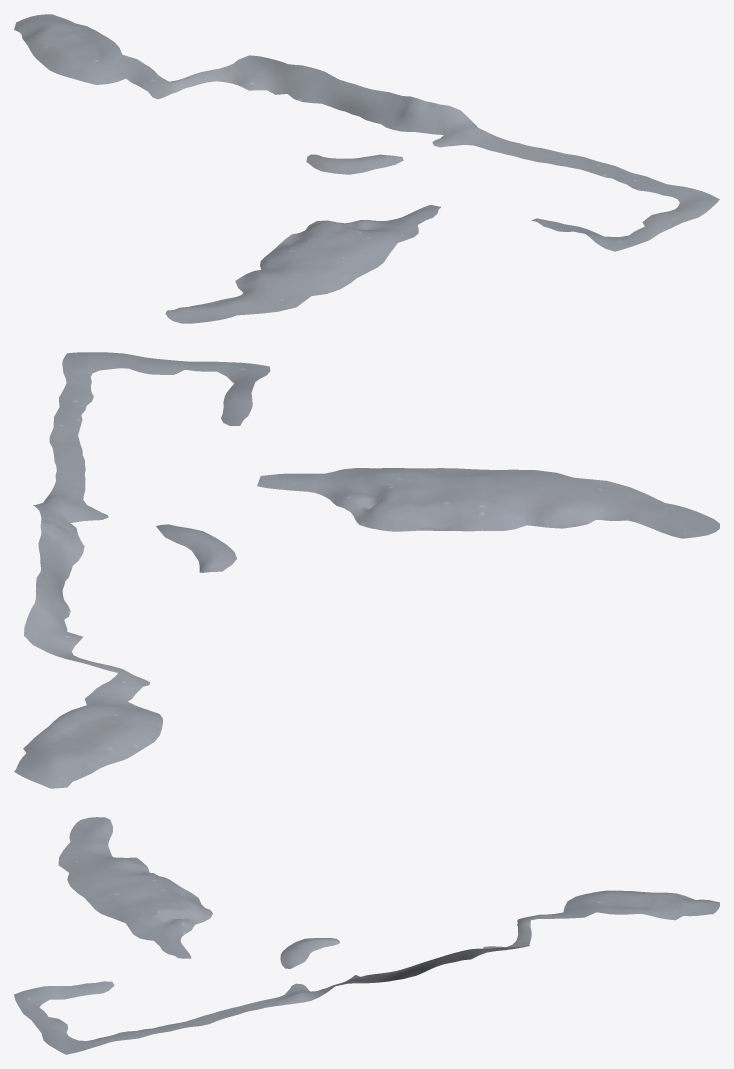
The model's file is pref_sm_beach_winter_blocksnow04_lv3.fbx.
3 renders of one model, top to bottom at view 1: azimuth 30°, elevation 25°; view 2: azimuth 150°, elevation 25°; view 3: azimuth 270°, elevation 25°, orthographic. The views are drawn at different scales.
Visible parts, largest first — view 1: pref_sm_beach_winter_blocksnow04_lv3; view 2: pref_sm_beach_winter_blocksnow04_lv3; view 3: pref_sm_beach_winter_blocksnow04_lv3.
Boxes of the visible parts, bbox=[...] form: pref_sm_beach_winter_blocksnow04_lv3: bbox=[14, 14, 719, 323]; pref_sm_beach_winter_blocksnow04_lv3: bbox=[14, 352, 719, 788]; pref_sm_beach_winter_blocksnow04_lv3: bbox=[14, 817, 719, 1054].
Bounding box in the file's own units: 17.48 × 0.8289 × 21.9.
